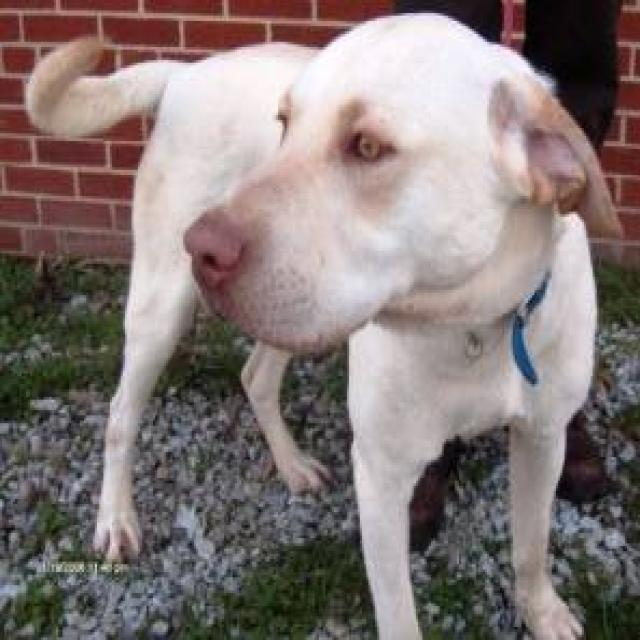dog: (21, 10, 625, 638)
